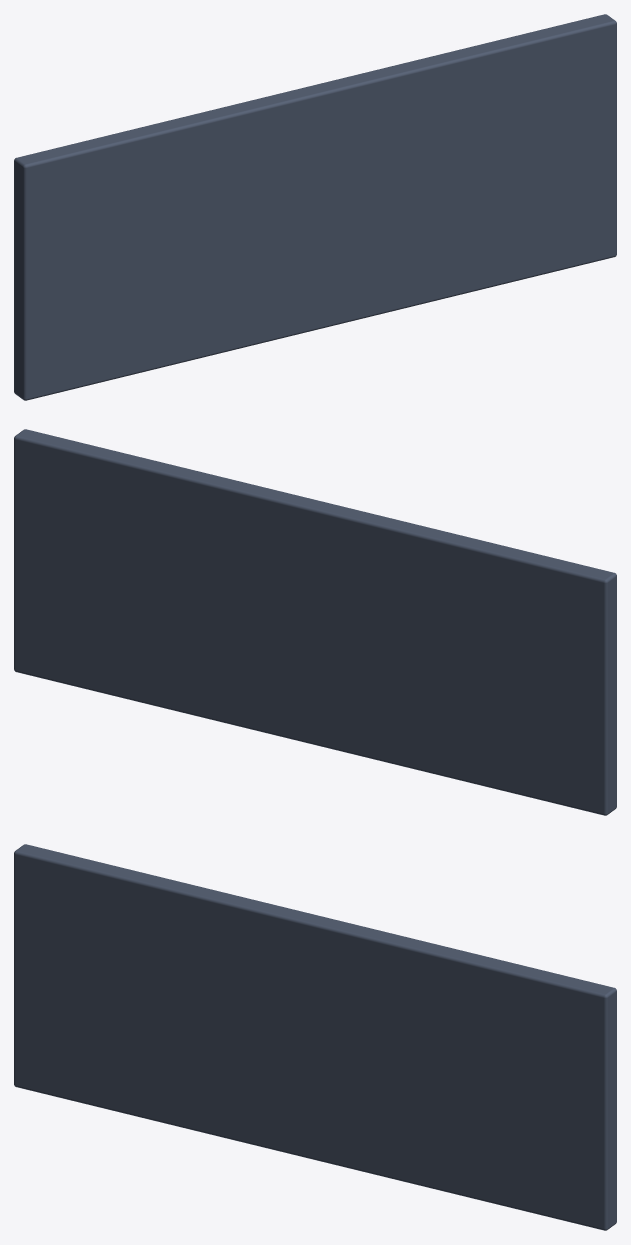
The model's file is tv_standard.glb.
3 views of the same model, one above another, from view 1: azimuth 30°, elevation 25°; view 2: azimuth 150°, elevation 25°; view 3: azimuth 330°, elevation 25° (orthographic).
Parts seen in each view (by area): view 1: tv_standard; view 2: tv_standard; view 3: tv_standard.
Part boxes in pixels (box(x1,y1,x2,y2)): tv_standard: box(14, 14, 616, 400); tv_standard: box(14, 429, 616, 815); tv_standard: box(14, 844, 616, 1230).
Bounding box in the file's own units: 1.5 × 0.5704 × 0.0504.
